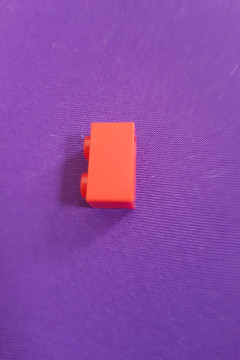1x2 red: (80, 121, 136, 209)
